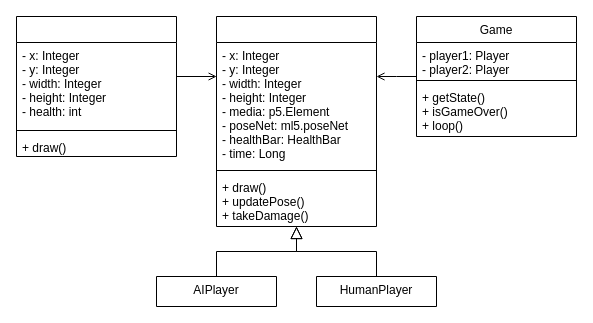
The diagram is 593 pixels wide and 323 high, and some of its shapes have lost their labels. The shapes that lost their labels are listed below. From the top down, each one's box as (x1, y1, x2, y2) in pixels, then its label:
(16, 16, 176, 156): HealthBar
(216, 16, 376, 226): Player
